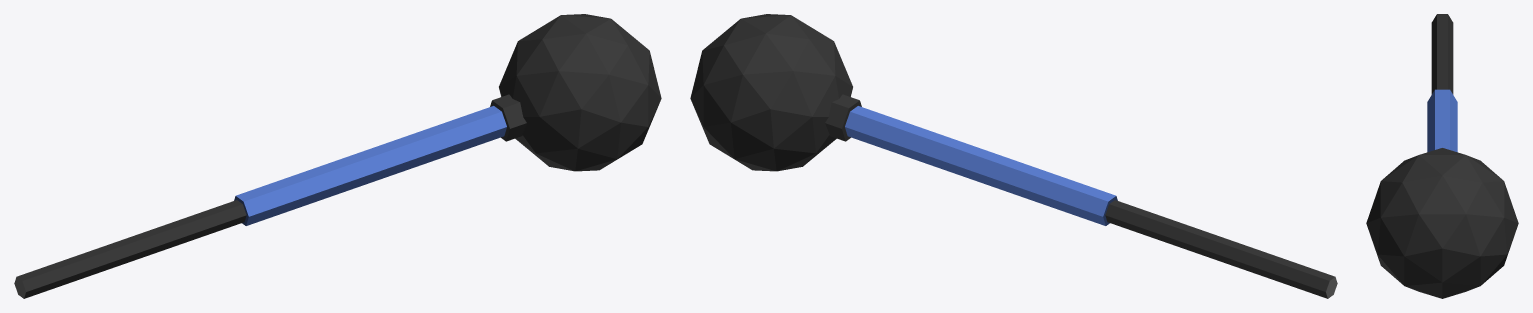
File: WorldItem_CoreHammer.fbx
3 renders of one model, left to right at view 1: azimuth 30°, elevation 25°; view 2: azimuth 150°, elevation 25°; view 3: azimuth 270°, elevation 25°, orthographic. The views are drawn at different scales.
Parts seen in each view (by area): view 1: ZomboidCoreHammer; view 2: ZomboidCoreHammer; view 3: ZomboidCoreHammer.
Part boxes in pixels (x1,y1,x2,y2): ZomboidCoreHammer: (14, 14, 661, 298); ZomboidCoreHammer: (690, 14, 1337, 298); ZomboidCoreHammer: (1366, 14, 1518, 298).
Bounding box in the file's own units: 0.6978 × 0.148 × 0.1564.
